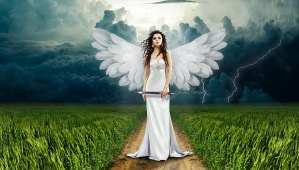female: (147, 27, 166, 52)
